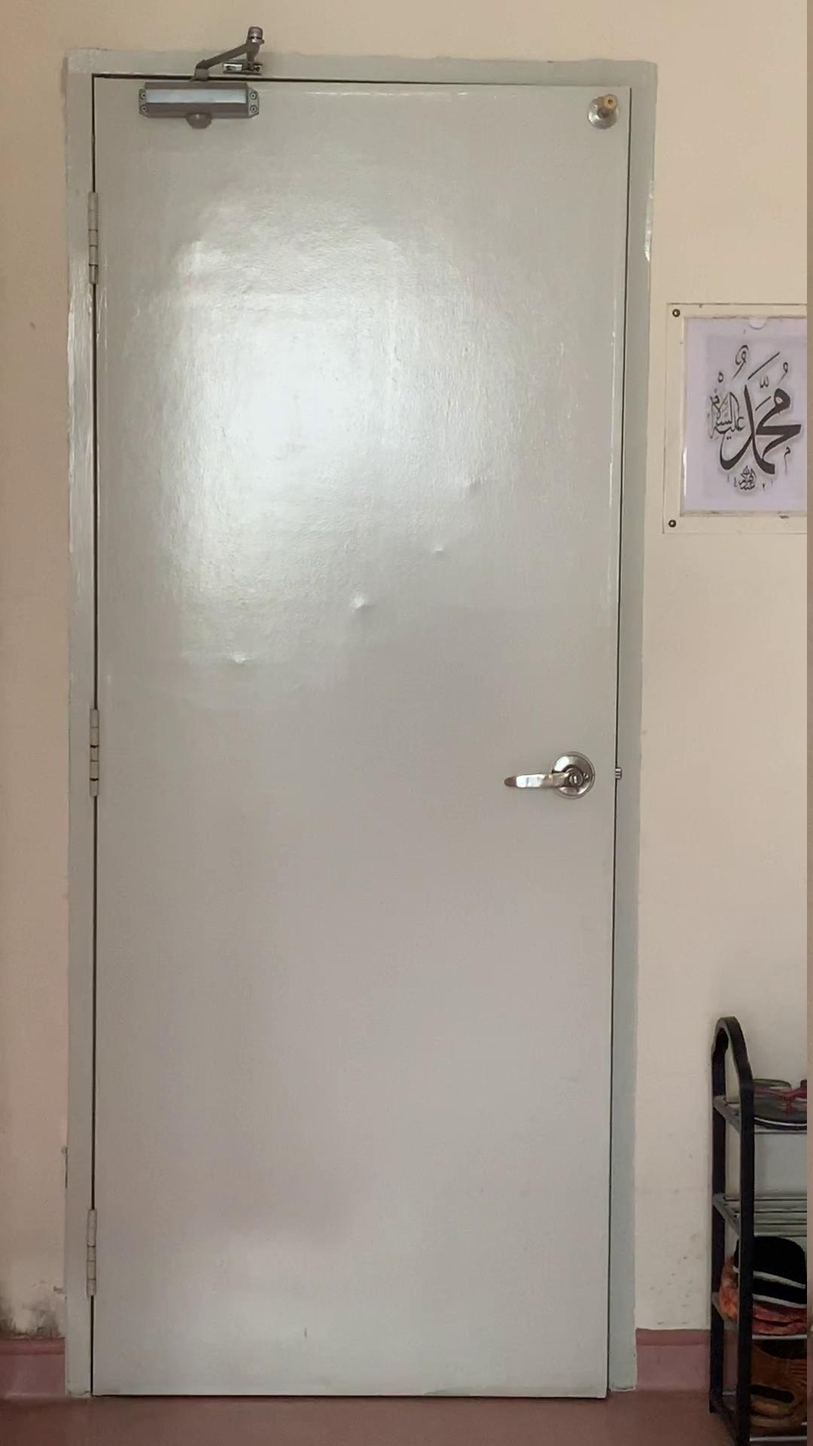door: (61, 49, 659, 1403)
